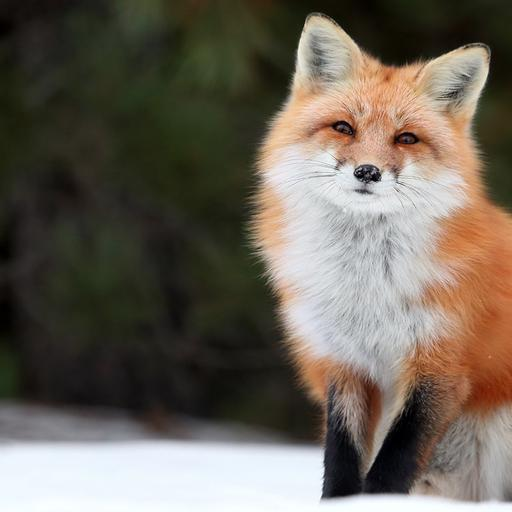Fox: (250, 0, 512, 512)
